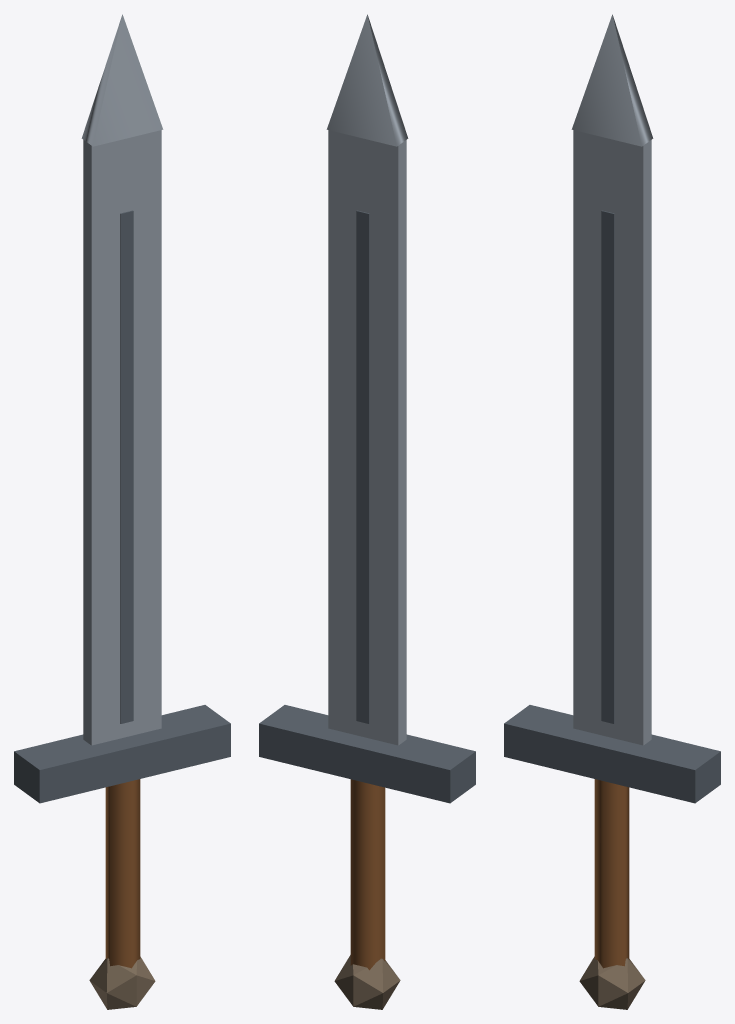
The model's file is weapon_greatsword_t1.glb.
3 views of the same model, side by side, from view 1: azimuth 30°, elevation 25°; view 2: azimuth 150°, elevation 25°; view 3: azimuth 330°, elevation 25° (orthographic).
Visible parts, largest first — view 1: item_metal1, item_darkMetal1, item_leather1, item_trim1; view 2: item_metal1, item_darkMetal1, item_leather1, item_trim1; view 3: item_metal1, item_darkMetal1, item_leather1, item_trim1.
Part boxes in pixels (x1,y1,x2,y2): item_metal1: (81,14,163,745); item_darkMetal1: (14,210,230,803); item_leather1: (105,779,140,968); item_trim1: (89,956,155,1009); item_metal1: (326,14,408,745); item_darkMetal1: (259,210,475,803); item_leather1: (350,779,385,970); item_trim1: (334,955,400,1009); item_metal1: (571,14,653,745); item_darkMetal1: (504,210,720,803); item_leather1: (594,779,629,968); item_trim1: (579,956,645,1009).
Bounding box in the file's own units: 0.3 × 1.49 × 0.0766.
